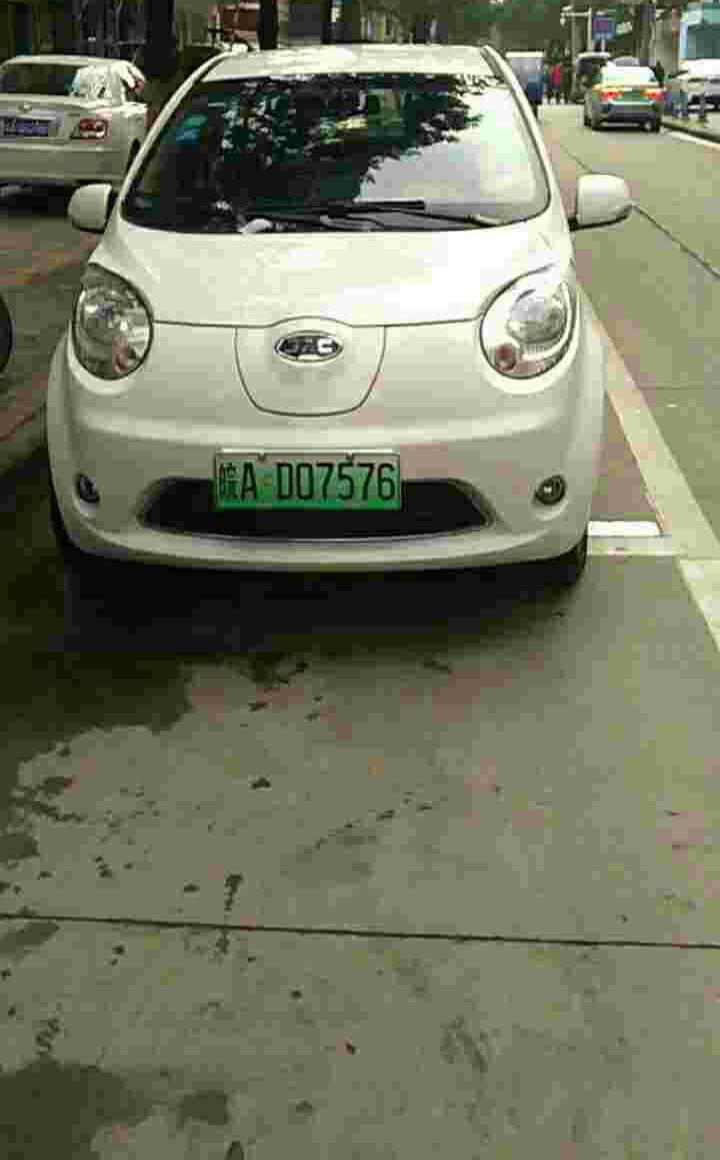car_green: (208, 444, 406, 514)
